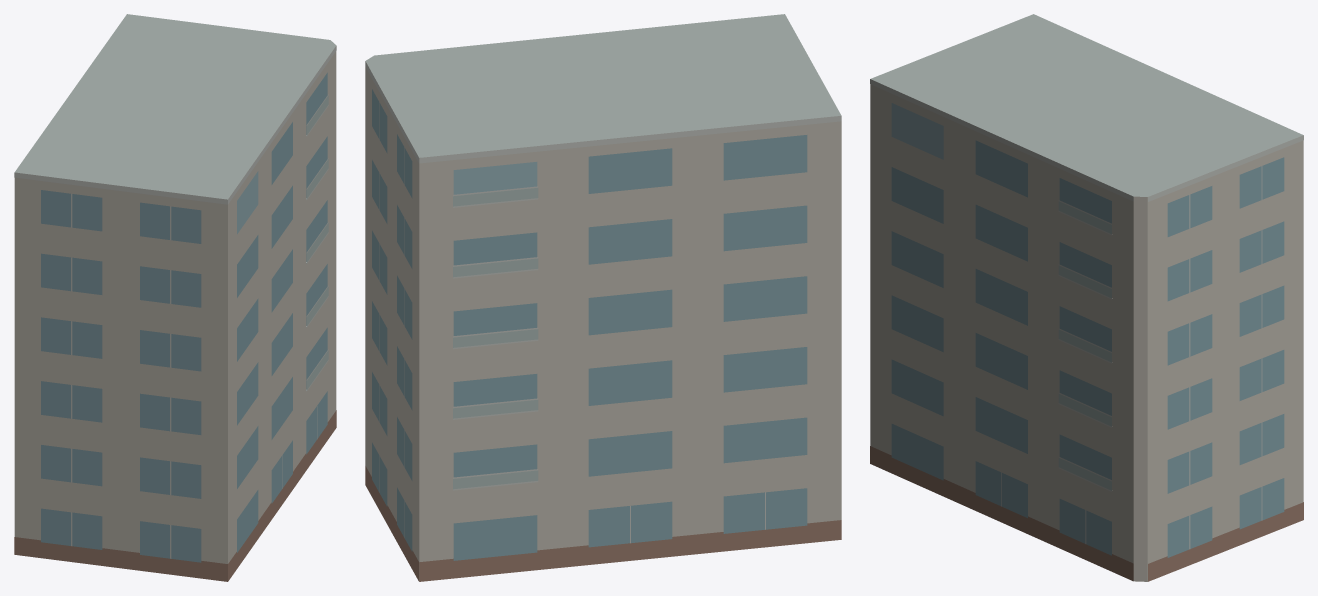
The model's file is survey-upis-32754274.glb.
3 views of the same model, side by side, from view 1: azimuth 30°, elevation 25°; view 2: azimuth 150°, elevation 25°; view 3: azimuth 270°, elevation 25° (orthographic). The views are drawn at different scales.
Visible parts, largest first — view 1: survey-upis-32754274.tmp; view 2: survey-upis-32754274.tmp; view 3: survey-upis-32754274.tmp.
Boxes of the visible parts, box(x1,y1,x2,y2) form: survey-upis-32754274.tmp: box(14, 14, 336, 581); survey-upis-32754274.tmp: box(365, 14, 841, 581); survey-upis-32754274.tmp: box(870, 14, 1303, 581).
Size of the model in its own units: 18.68 by 18.3 by 18.69.
